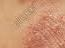plaque psoriasis: (19, 12, 65, 48), (0, 0, 65, 6)
